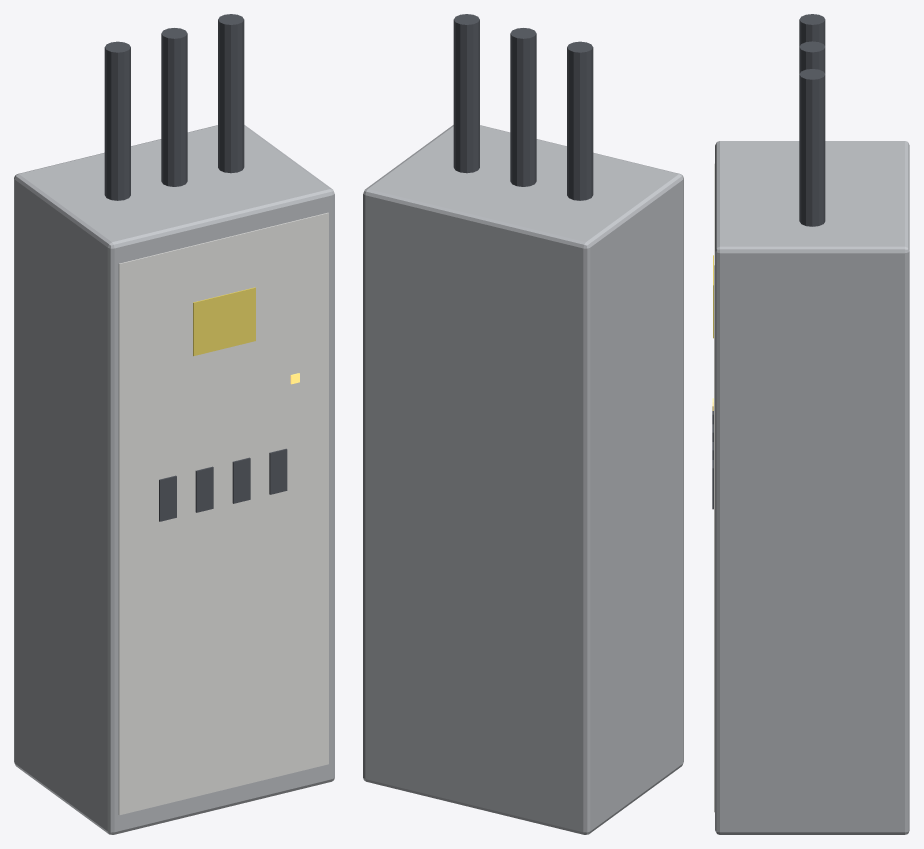
Rendered from pdu.glb.
3 views of the same model, side by side, from view 1: azimuth 30°, elevation 25°; view 2: azimuth 150°, elevation 25°; view 3: azimuth 270°, elevation 25° (orthographic).
Visible parts, largest first — view 1: door, body, cab0, cab2, cab1, hazard, brk3, brk2, brk1, brk0; view 2: body, cab0, cab2, cab1; view 3: body, cab2, cab1, cab0, door.
Boxes of the visible parts, x1,y1,x2,y2 form: door: [118, 212, 328, 815]; body: [14, 125, 334, 834]; cab0: [104, 41, 130, 200]; cab2: [218, 14, 244, 173]; cab1: [161, 28, 187, 186]; hazard: [193, 287, 255, 356]; brk3: [269, 448, 287, 494]; brk2: [232, 457, 250, 503]; brk1: [195, 466, 213, 512]; brk0: [159, 475, 176, 521]; body: [363, 125, 683, 834]; cab0: [567, 41, 593, 200]; cab2: [453, 14, 479, 173]; cab1: [510, 28, 536, 186]; body: [715, 141, 909, 834]; cab2: [799, 69, 825, 226]; cab1: [799, 41, 825, 73]; cab0: [799, 14, 825, 46]; door: [714, 163, 714, 812].
Bounding box in the file's own units: 0.8 × 2.5 × 0.609.
